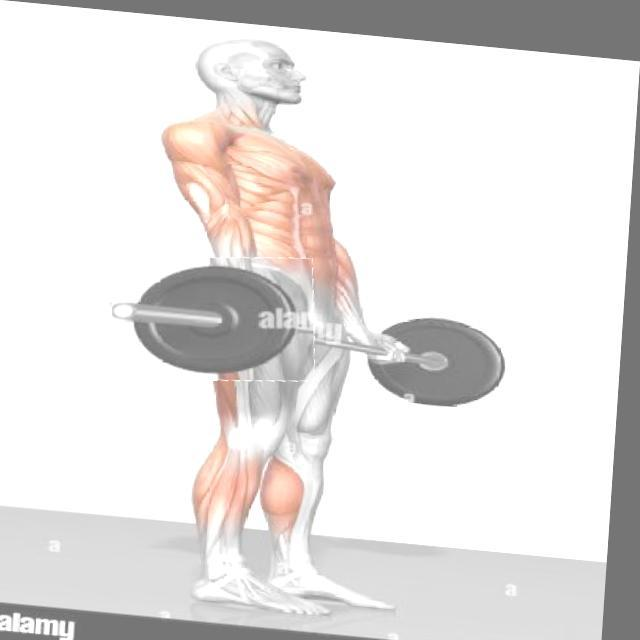barbell: (112, 243, 324, 389)
